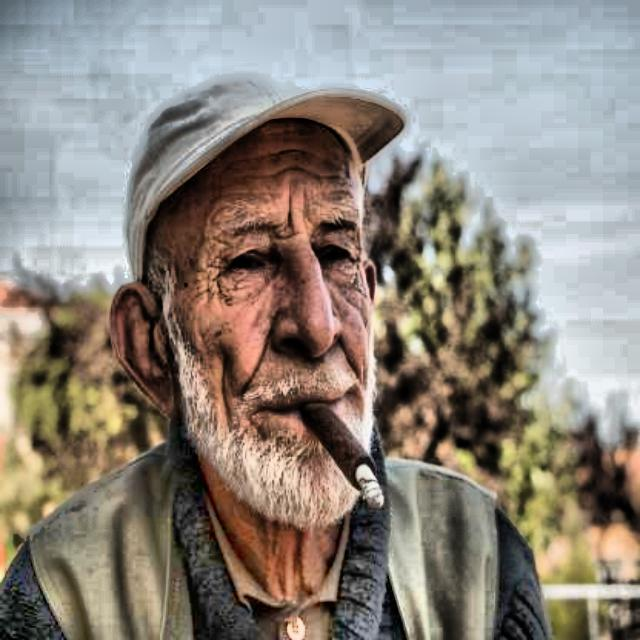neutral: (104, 57, 405, 570)
